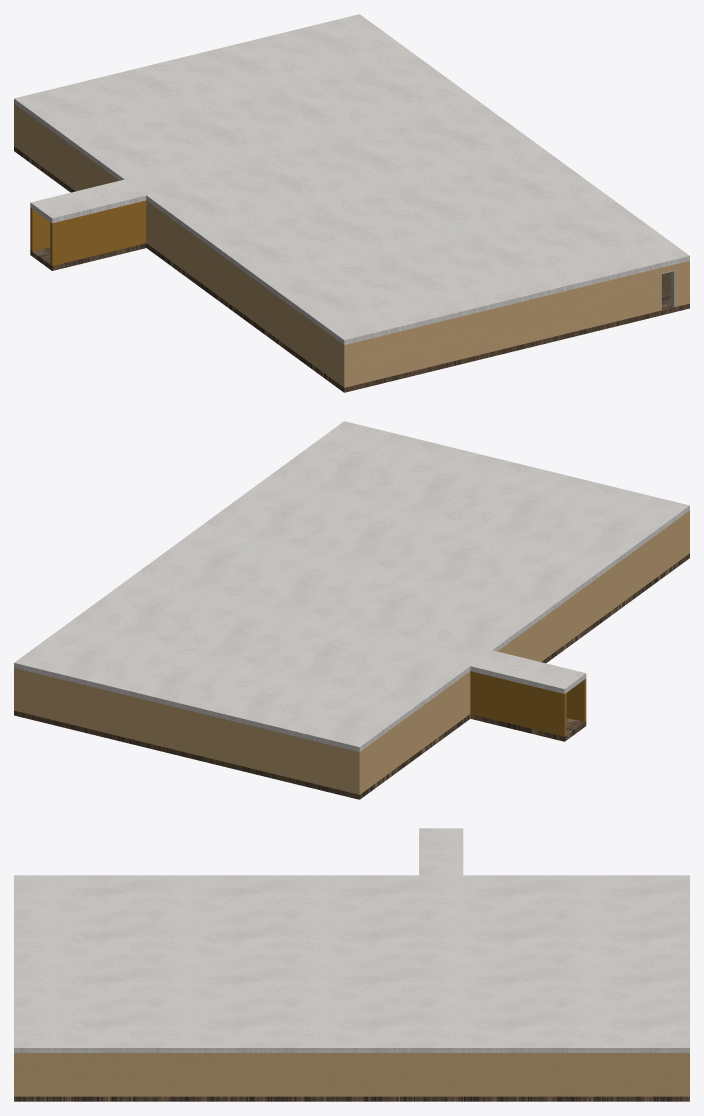
The model's file is Level_7.glb.
3 views of the same model, one above another, from view 1: azimuth 30°, elevation 25°; view 2: azimuth 150°, elevation 25°; view 3: azimuth 270°, elevation 25° (orthographic). The views are drawn at different scales.
Parts seen in each view (by area): view 1: Layer:3 ceiling, Layer:2 bed1_wall, Layer:2 corridor_wall, Layer:1 wood_floor; view 2: Layer:3 ceiling, Layer:2 bed1_wall, Layer:2 corridor_wall, Layer:1 wood_floor; view 3: Layer:3 ceiling, Layer:2 bed1_wall, Layer:1 wood_floor.
Part boxes in pixels (x1=…): Layer:3 ceiling: x1=14, y1=14, x2=689, y2=344; Layer:2 bed1_wall: x1=14, y1=103, x2=689, y2=387; Layer:2 corridor_wall: x1=30, y1=200, x2=146, y2=265; Layer:1 wood_floor: x1=14, y1=146, x2=689, y2=392; Layer:3 ceiling: x1=14, y1=421, x2=689, y2=751; Layer:2 bed1_wall: x1=14, y1=510, x2=689, y2=794; Layer:2 corridor_wall: x1=470, y1=671, x2=586, y2=736; Layer:1 wood_floor: x1=14, y1=553, x2=689, y2=799; Layer:3 ceiling: x1=14, y1=828, x2=689, y2=1052; Layer:2 bed1_wall: x1=14, y1=1053, x2=689, y2=1096; Layer:1 wood_floor: x1=14, y1=1096, x2=689, y2=1101.
Bounding box in the file's own units: 28 × 3.2 × 36.4.
Materials: 5 (5 with a texture image).
